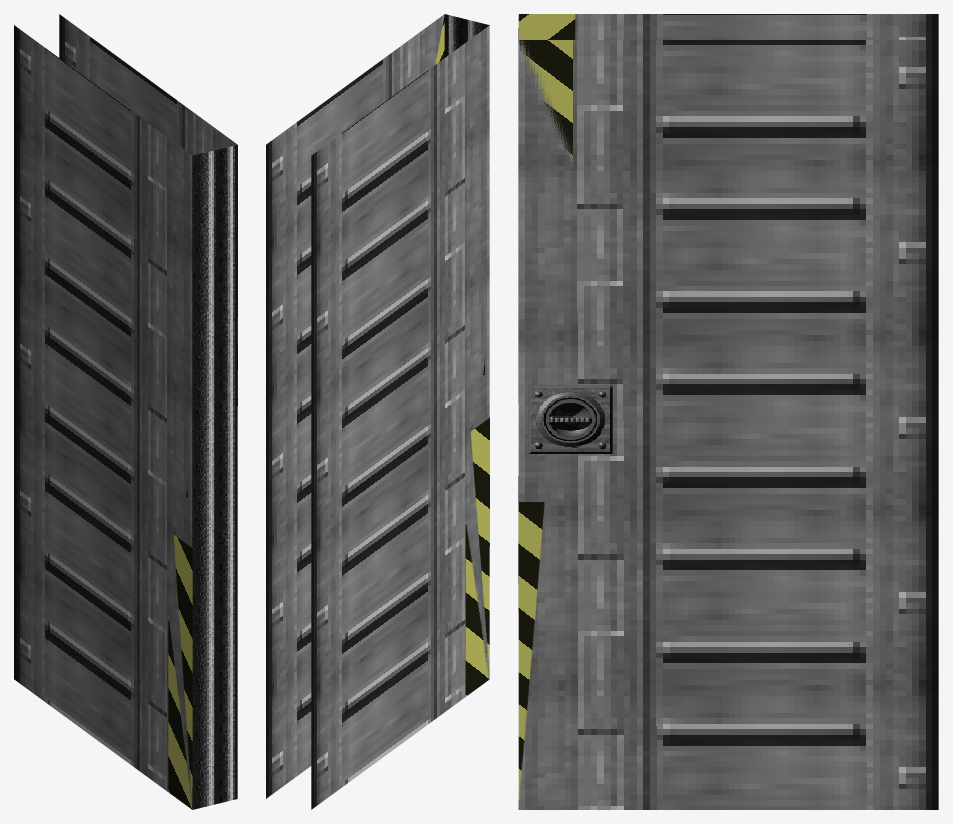
File: primary_173.glb
The picture shows the model from 3 angles, left to right: view 1: azimuth 30°, elevation 25°; view 2: azimuth 150°, elevation 25°; view 3: azimuth 270°, elevation 25°; orthographic projection. The views are drawn at different scales.
Parts seen in each view (by area): view 1: Object; view 2: Object; view 3: Object.
Boxes of the visible parts, left/top/right/bottom form: Object: left=14, top=14, right=237, bottom=809; Object: left=266, top=14, right=489, bottom=809; Object: left=518, top=14, right=938, bottom=809.
Size of the model in its own units: 0.1681 by 2.32 by 1.15.
Materials: 5 (5 with a texture image).
